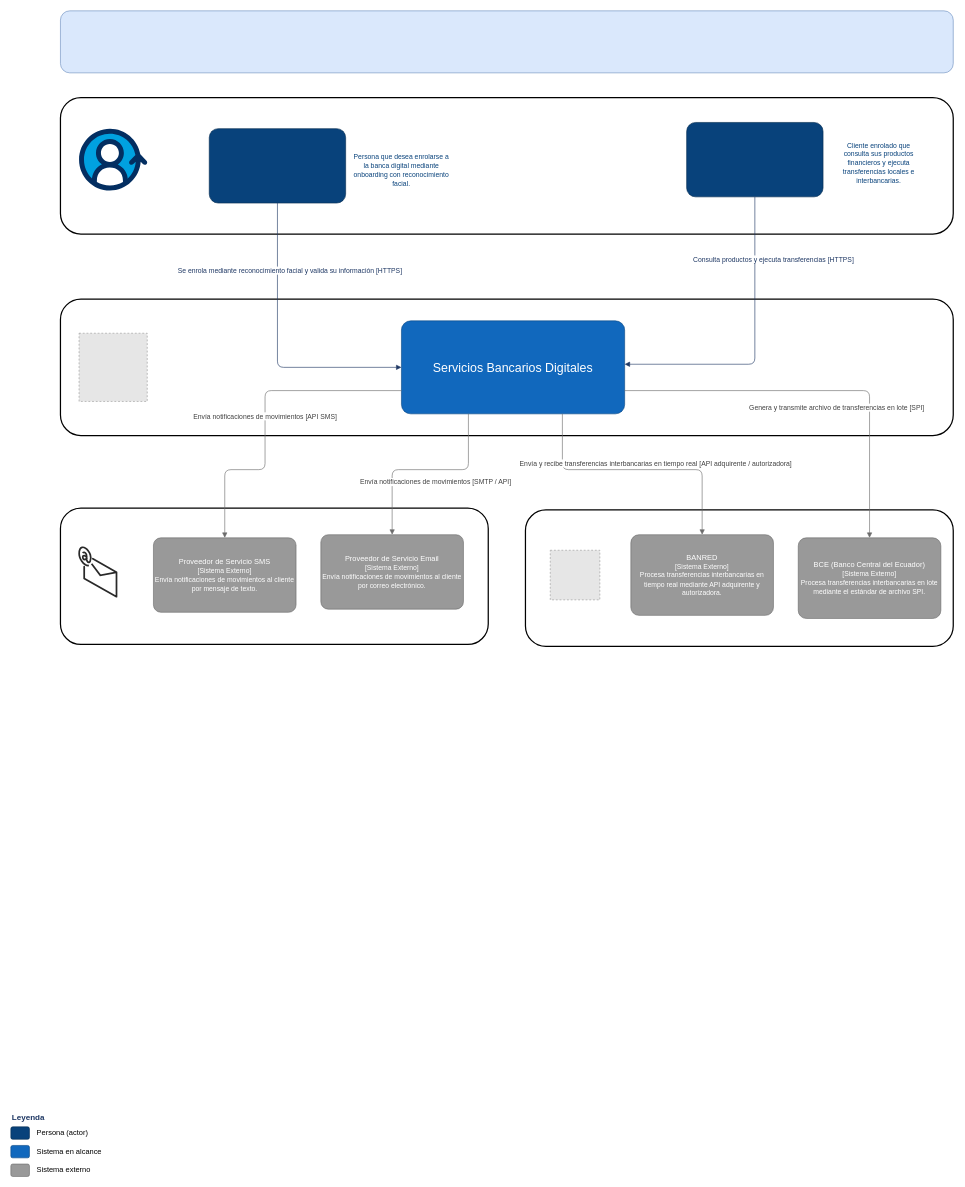
Some shapes in this 965 by 1187 pixel diagram are drawn without their labels. Grey dashed boxes stand in for pictures. The centre of each missing label's shape, as x and y in pixels:
"Cliente Existente" goes at (x=754, y=159).
"Diagrama de Contexto (C4 - Nivel 1) Servicios Bancarios Digitales" goes at (x=506, y=41).
"Nuevo Cliente" goes at (x=277, y=165).
